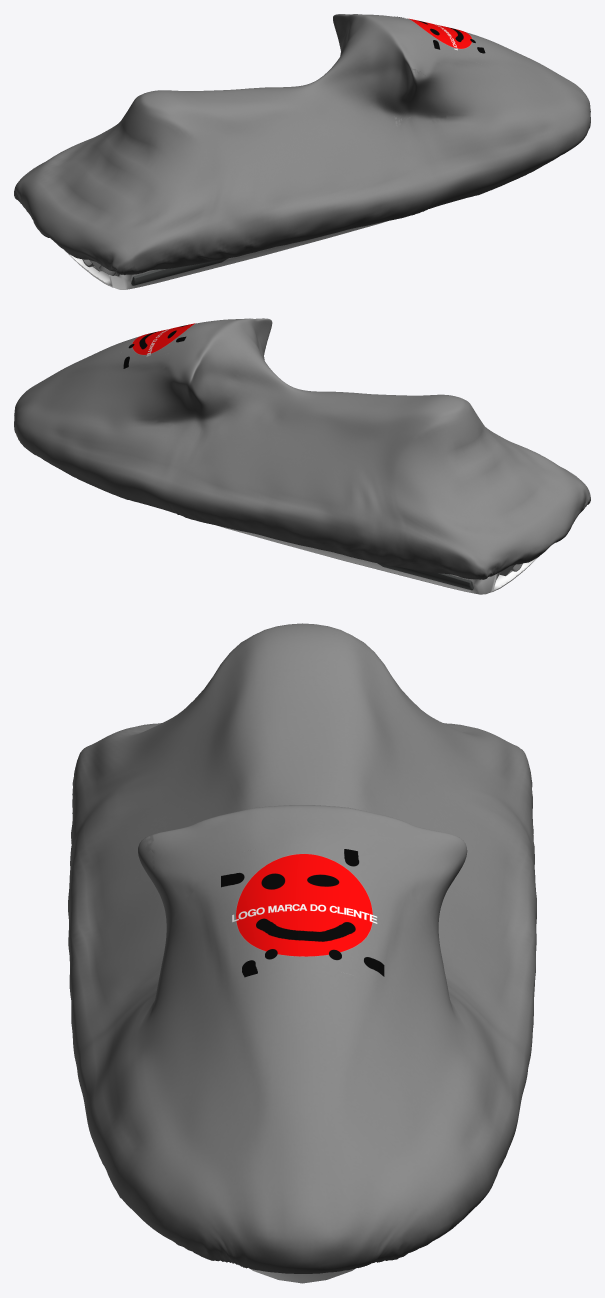
Rendered from jetski6.glb.
3 renders of one model, top to bottom at view 1: azimuth 30°, elevation 25°; view 2: azimuth 150°, elevation 25°; view 3: azimuth 270°, elevation 25°, orthographic. The views are drawn at different scales.
Parts seen in each view (by area): view 1: CAPA_JETSKI, FINAL_jetski.003, Logo, FINAL_jetski.001; view 2: CAPA_JETSKI, FINAL_jetski.003, Logo, FINAL_jetski.002; view 3: CAPA_JETSKI, Logo.
Boxes of the visible parts, x1,y1,x2,y2 form: CAPA_JETSKI: (14,14,590,274); FINAL_jetski.003: (62,221,387,289); Logo: (397,16,485,53); FINAL_jetski.001: (131,258,227,285); CAPA_JETSKI: (14,318,590,579); FINAL_jetski.003: (217,525,538,594); Logo: (123,323,195,368); FINAL_jetski.002: (378,563,473,590); CAPA_JETSKI: (68,623,536,1273); Logo: (221,849,384,977).
Size of the model in its own units: 22.78 by 7.55 by 8.65.
Materials: 5 (3 with a texture image).
